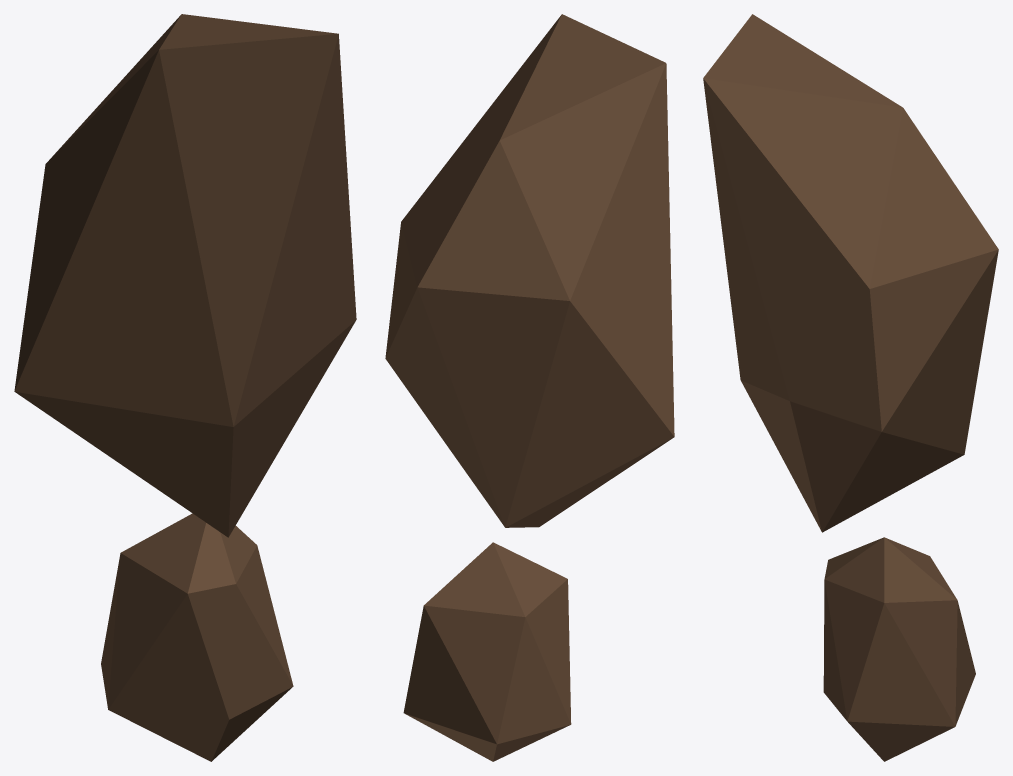
File: Rocks.fbx
The picture shows the model from 3 angles, left to right: view 1: azimuth 30°, elevation 25°; view 2: azimuth 150°, elevation 25°; view 3: azimuth 270°, elevation 25°; orthographic projection. The views are drawn at different scales.
Parts seen in each view (by area): view 1: Icosphere.001, Icosphere.002; view 2: Icosphere.001, Icosphere.002; view 3: Icosphere.001, Icosphere.002.
Part boxes in pixels (x1,y1,x2,y2): Icosphere.001: (14, 14, 356, 537); Icosphere.002: (101, 513, 293, 761); Icosphere.001: (385, 14, 674, 527); Icosphere.002: (403, 542, 571, 761); Icosphere.001: (703, 14, 998, 532); Icosphere.002: (823, 537, 975, 761).
Bounding box in the file's own units: 220 × 504 × 195.
